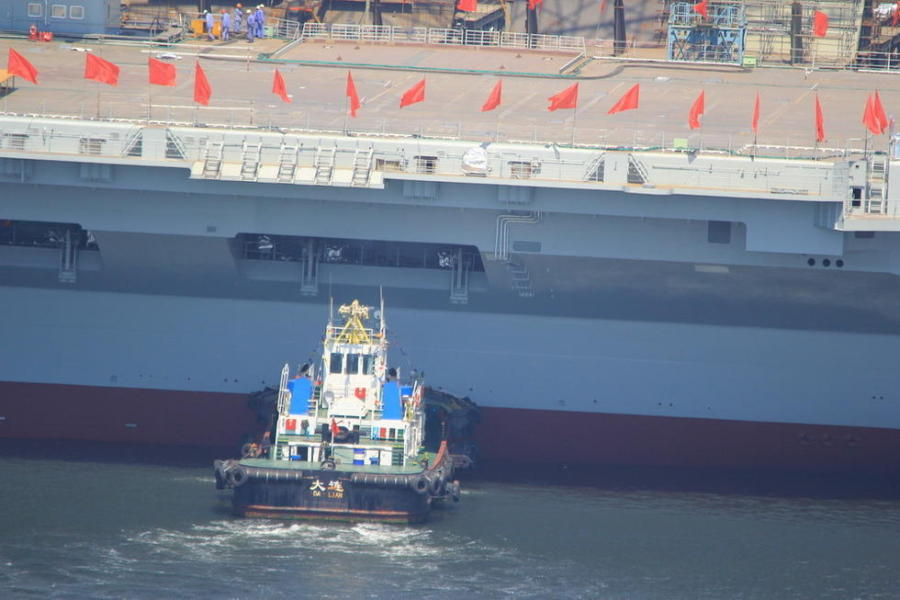otherboat: (193, 306, 478, 537)
